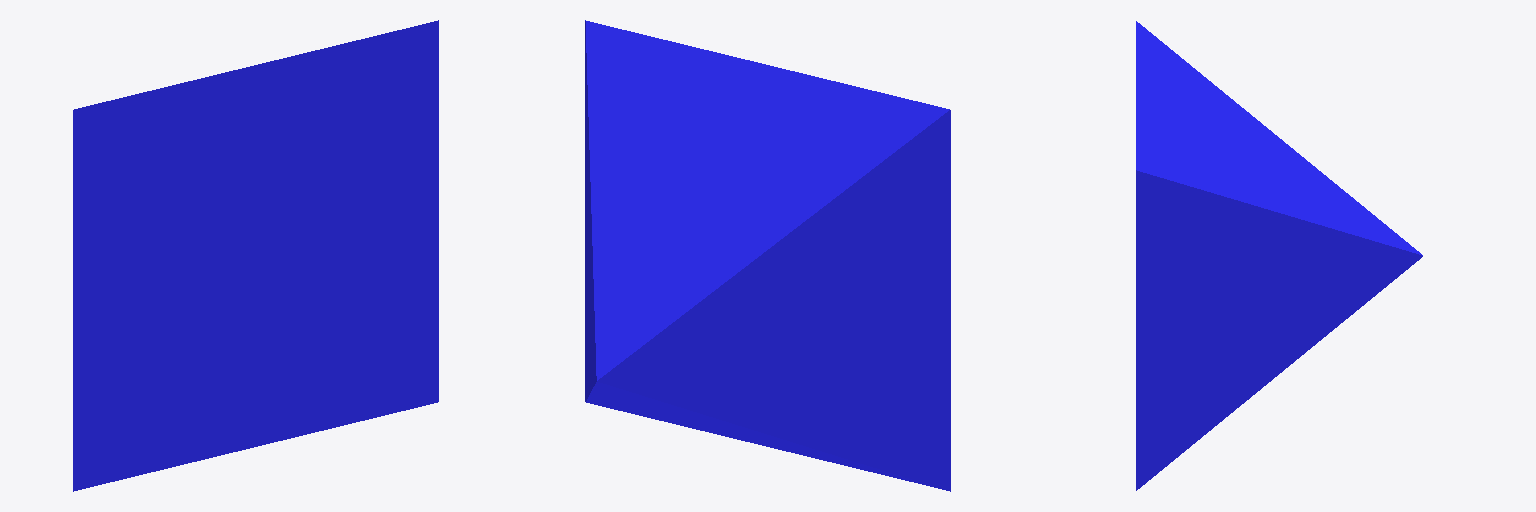
The robot description file, URDF, robot "urdf_robot":
<?xml version="0.0" ?>
<robot name="urdf_robot">
  <link name="baseLink">
  	<contact>
      <rolling_friction value="0.03"/>
      <spinning_friction value="0.03"/>
    </contact>

    <inertial>
      <origin rpy="0 0 0" xyz="0 0 0"/>
       <mass value="0.0"/>
       <inertia ixx="0" ixy="0" ixz="0" iyy="0" iyz="0" izz="0"/>
    </inertial>
    <visual>
      <origin rpy="0 0 0" xyz="0 -0.5 0"/>
      <geometry>
				<mesh filename="Pyramid Icon obj.obj" scale="0.5 0.5 0.5"/>      
      </geometry>
      <material name="blue">
        <color rgba="0.2 0.2 1 1"/>
        <specular rgb="1 1 1"/>
      </material>
    </visual>
    <!-- <collision>
      <origin rpy="0 0 0" xyz="0 0 0"/>
      <geometry>
	 <sphere radius="0.5"/>
      </geometry>
    </collision> -->
  </link>
</robot>

--- What the picture shows (computed from the rendered views, not written in the file) ---
3 views of the same robot in one strip: view 1: azimuth 30°, elevation 25°; view 2: azimuth 150°, elevation 25°; view 3: azimuth 270°, elevation 25° (orthographic).
Model urdf_robot with 1 links and 0 joints (none), rooted at baseLink, posed every joint at zero.
Visible links, largest first — view 1: baseLink; view 2: baseLink; view 3: baseLink.
Link boxes in pixels (x1=…): baseLink: x1=73, y1=20, x2=438, y2=491; baseLink: x1=585, y1=20, x2=950, y2=491; baseLink: x1=1136, y1=21, x2=1422, y2=490.
Size in the robot's own frame: 1 by 0.813 by 1 metres.
1 mesh visuals loaded from 1 distinct referenced files (1 OBJ).